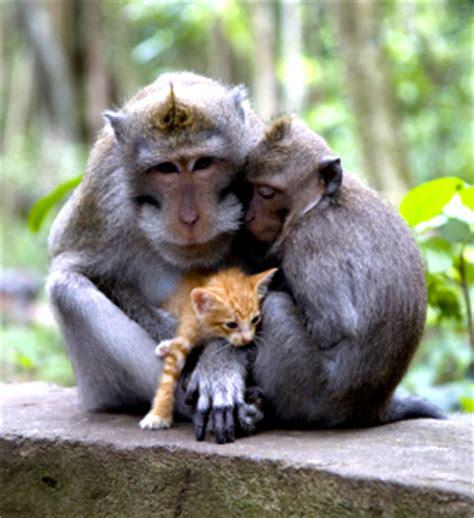cat: (138, 263, 277, 429)
monkey: (47, 74, 260, 441), (236, 110, 446, 431)
